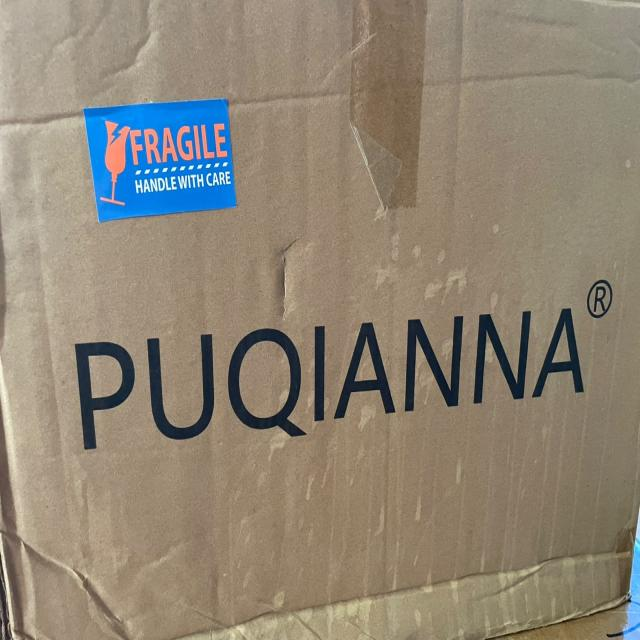carton_box: (1, 0, 640, 640)
fragile_label: (72, 94, 255, 222)
package_damage: (255, 229, 314, 336)
